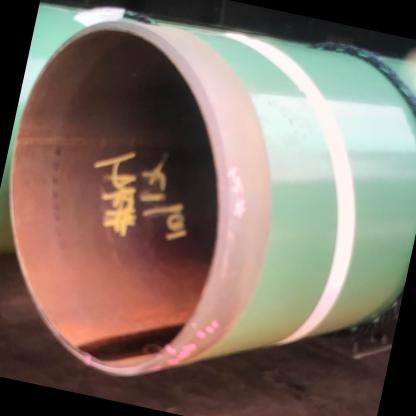Bevel: (208, 229, 237, 292)
